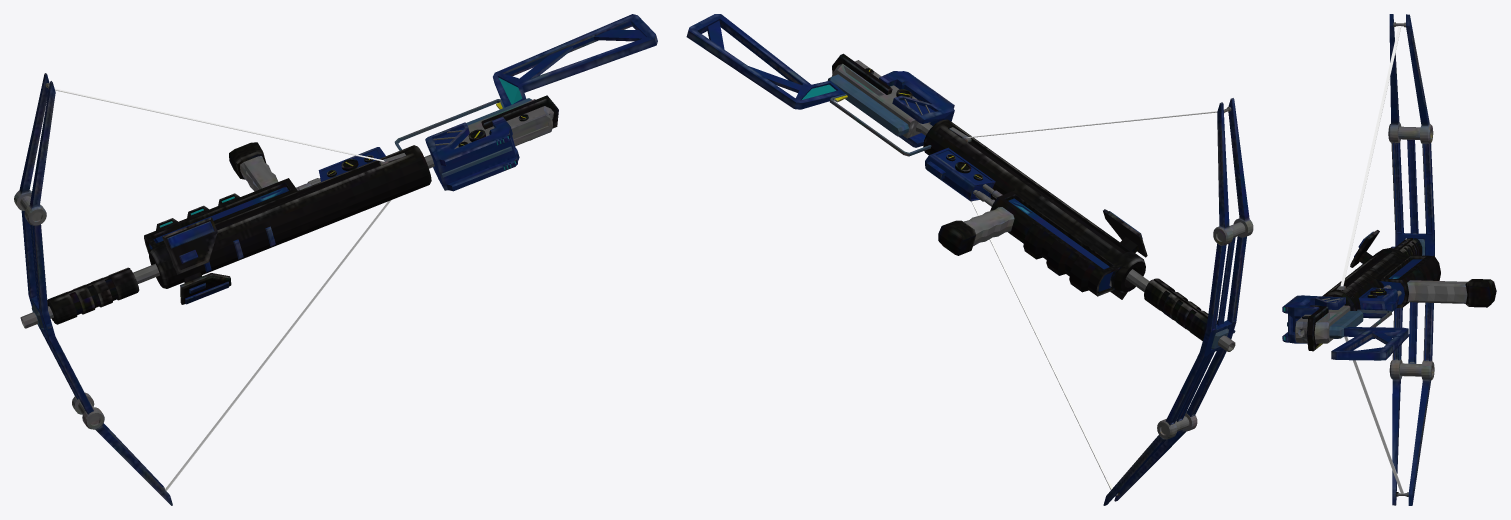
File: ranger-crossbowshockspike.glb
3 views of the same model, side by side, from view 1: azimuth 30°, elevation 25°; view 2: azimuth 150°, elevation 25°; view 3: azimuth 270°, elevation 25° (orthographic). The views are drawn at different scales.
Parts seen in each view (by area): view 1: geometry_0; view 2: geometry_0; view 3: geometry_0.
Boxes of the visible parts, bbox=[...] form: geometry_0: bbox=[14, 14, 657, 505]; geometry_0: bbox=[686, 14, 1253, 505]; geometry_0: bbox=[1282, 14, 1496, 505].
Size of the model in its own units: 0.8096 by 0.5817 by 0.2593.
Materials: 1 (1 with a texture image).
